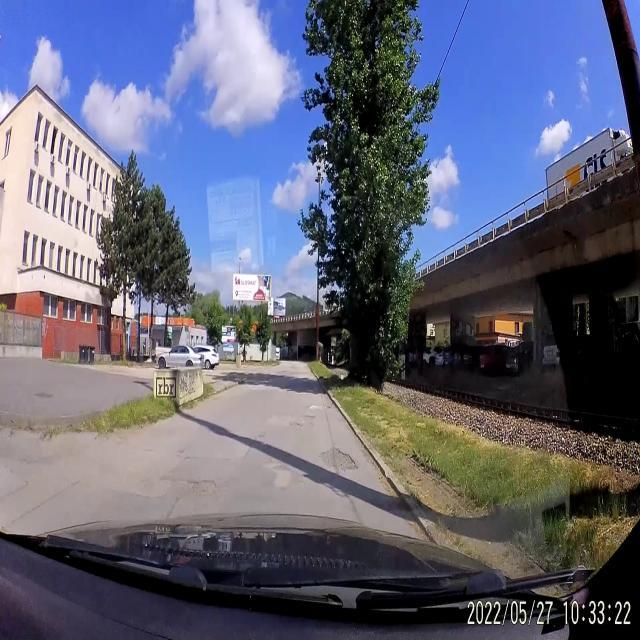Pothole: (320, 444, 358, 474), (174, 476, 222, 498), (308, 401, 333, 411), (304, 413, 318, 427), (294, 416, 304, 432)
